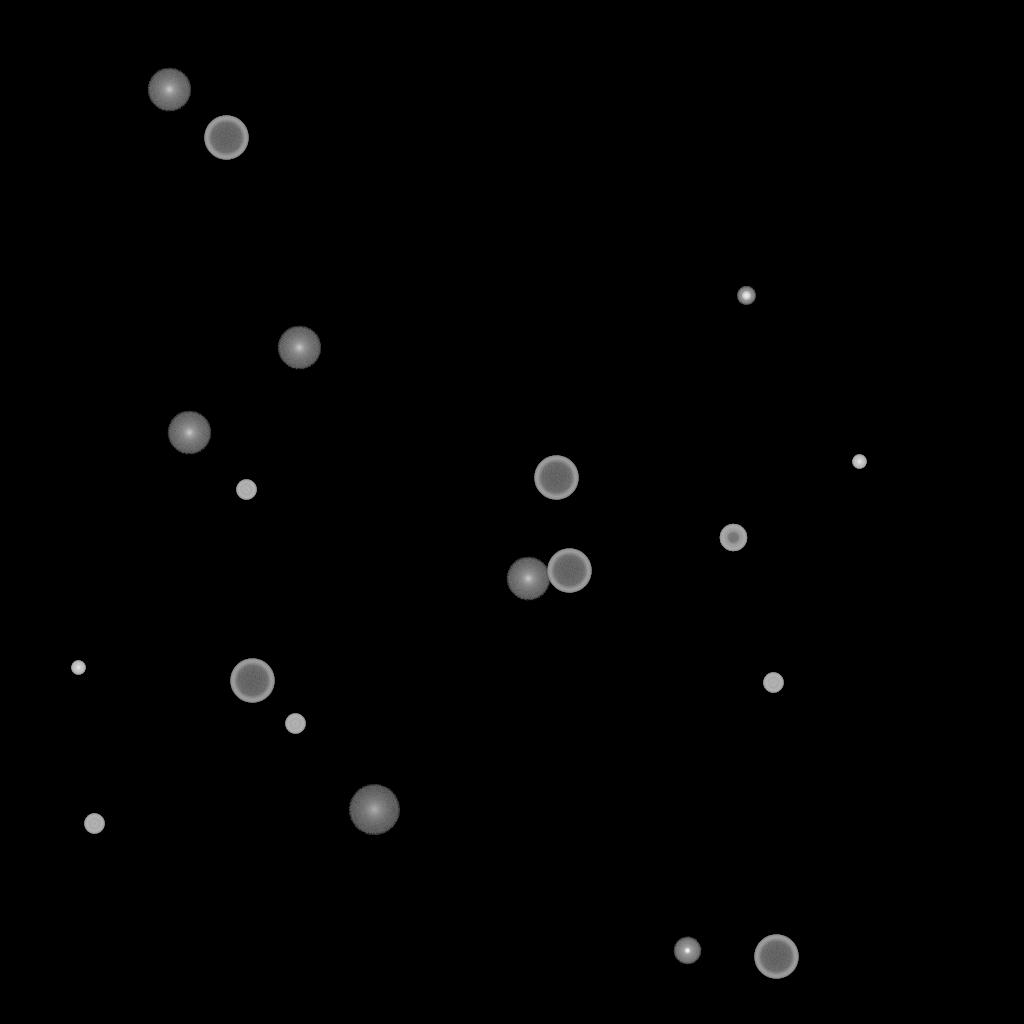depth:-10: (673, 937, 701, 965)
depth:-20: (737, 287, 755, 305)
depth:-30: (71, 661, 85, 675), (852, 455, 866, 469)
depth:-40: (236, 480, 256, 500), (763, 673, 783, 693), (285, 714, 305, 734), (84, 814, 104, 834)
depth:-50: (719, 524, 747, 552)
depth:-70: (547, 549, 591, 593), (754, 935, 798, 979), (534, 456, 578, 500), (204, 116, 248, 160), (230, 659, 274, 703)
depth:10: (167, 411, 211, 455), (277, 326, 321, 370), (506, 557, 550, 601), (147, 68, 191, 112)
depth:20: (348, 785, 400, 835)
